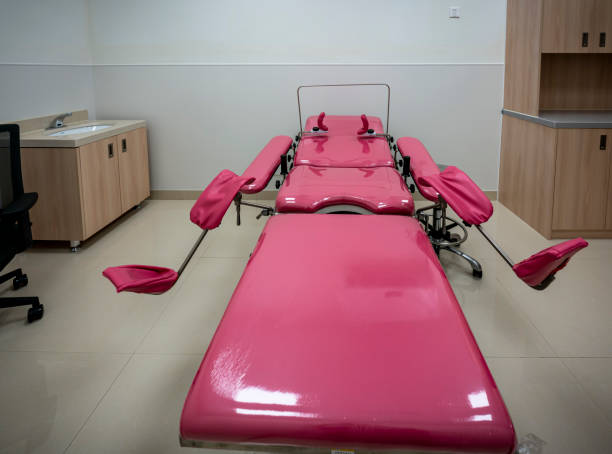chair: (1, 122, 44, 322)
counter: (501, 1, 607, 238), (1, 118, 152, 252)
exam_table: (101, 82, 589, 454)
faucet: (44, 111, 73, 129)
sink: (50, 123, 112, 136)
